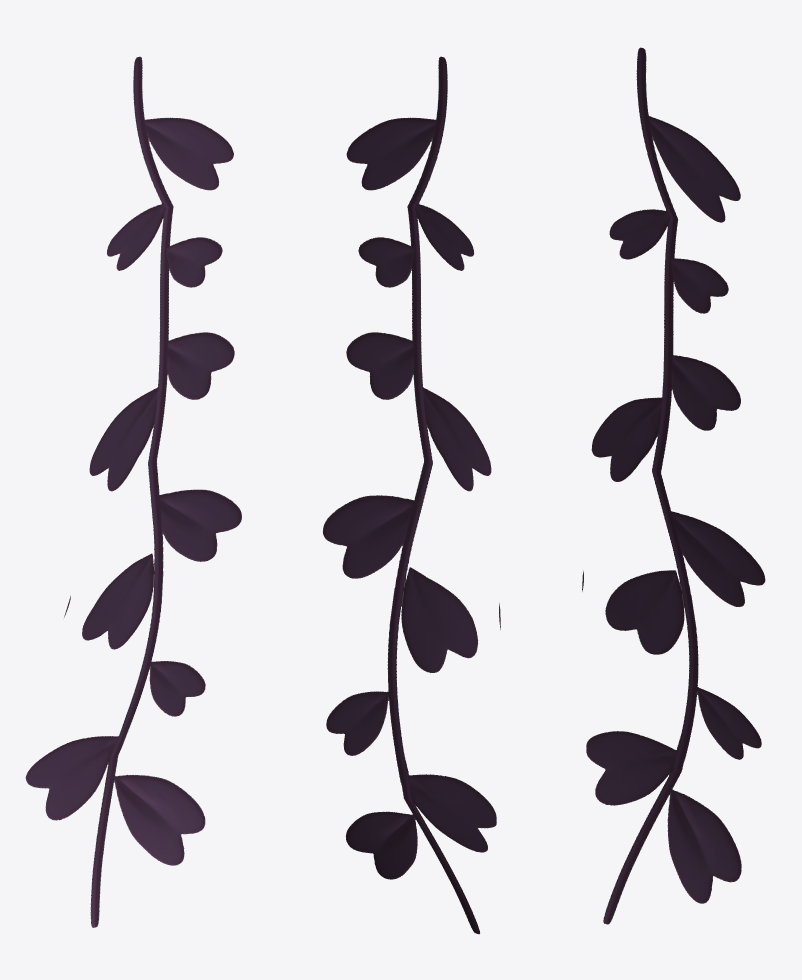
Rendered from prop_vine_02.fbx.
3 views of the same model, side by side, from view 1: azimuth 30°, elevation 25°; view 2: azimuth 150°, elevation 25°; view 3: azimuth 330°, elevation 25° (orthographic). The views are drawn at different scales.
Visible parts, largest first — view 1: prop_vine_02; view 2: prop_vine_02; view 3: prop_vine_02.
Part boxes in pixels (box(x1,y1,x2,y2)): prop_vine_02: box(25, 56, 241, 927); prop_vine_02: box(322, 56, 500, 934); prop_vine_02: box(582, 47, 765, 924).
Size of the model in its own units: 131 by 490 by 29.03.
1 material, 1 textured.
